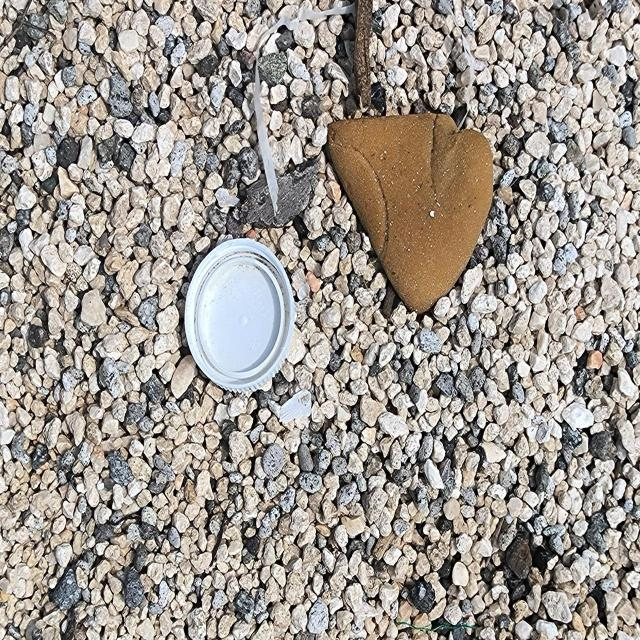plastic_waste: (184, 237, 296, 395)
